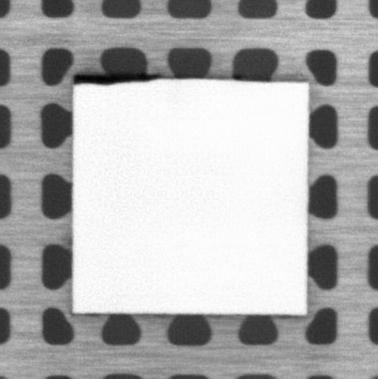DIE_BROKEN: (73, 72, 161, 86)
